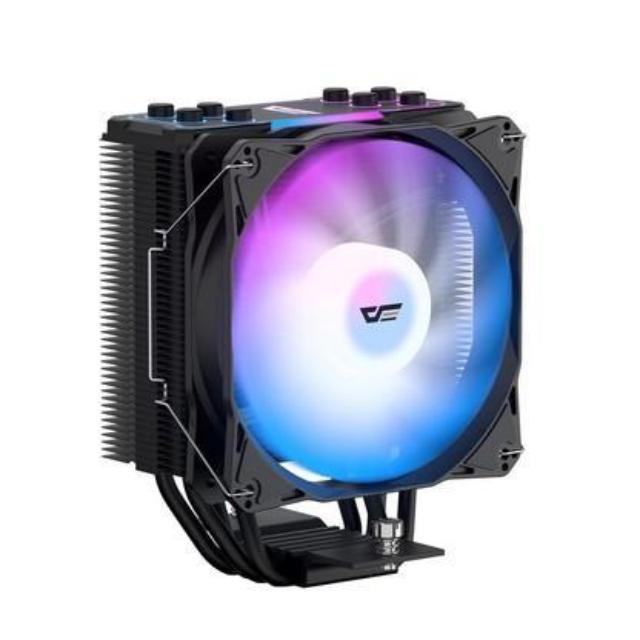CPU_Fan: (77, 82, 543, 588)
